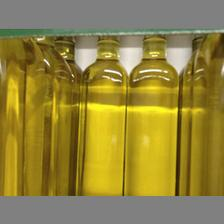Oel: (75, 33, 126, 194), (127, 34, 178, 194)
